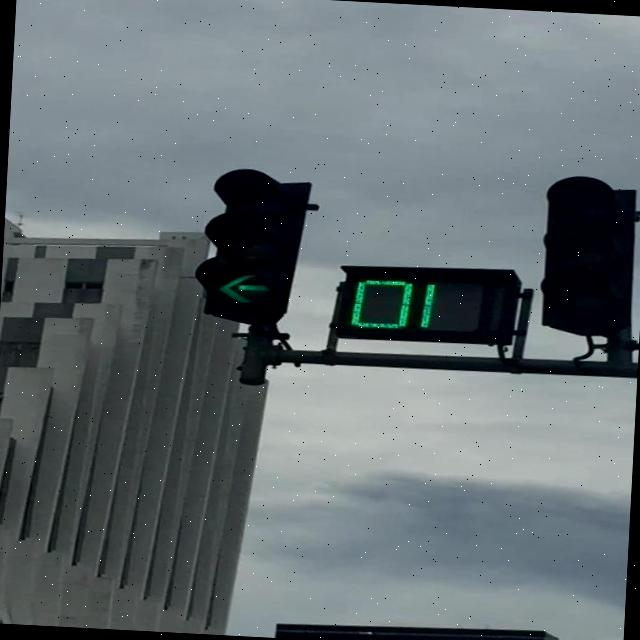green_light: (195, 167, 313, 322)
